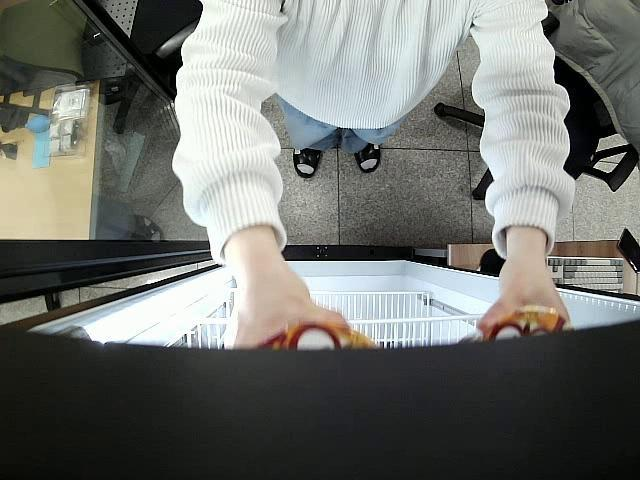05_nuguri_L: (453, 310, 578, 349), (252, 321, 384, 354)
